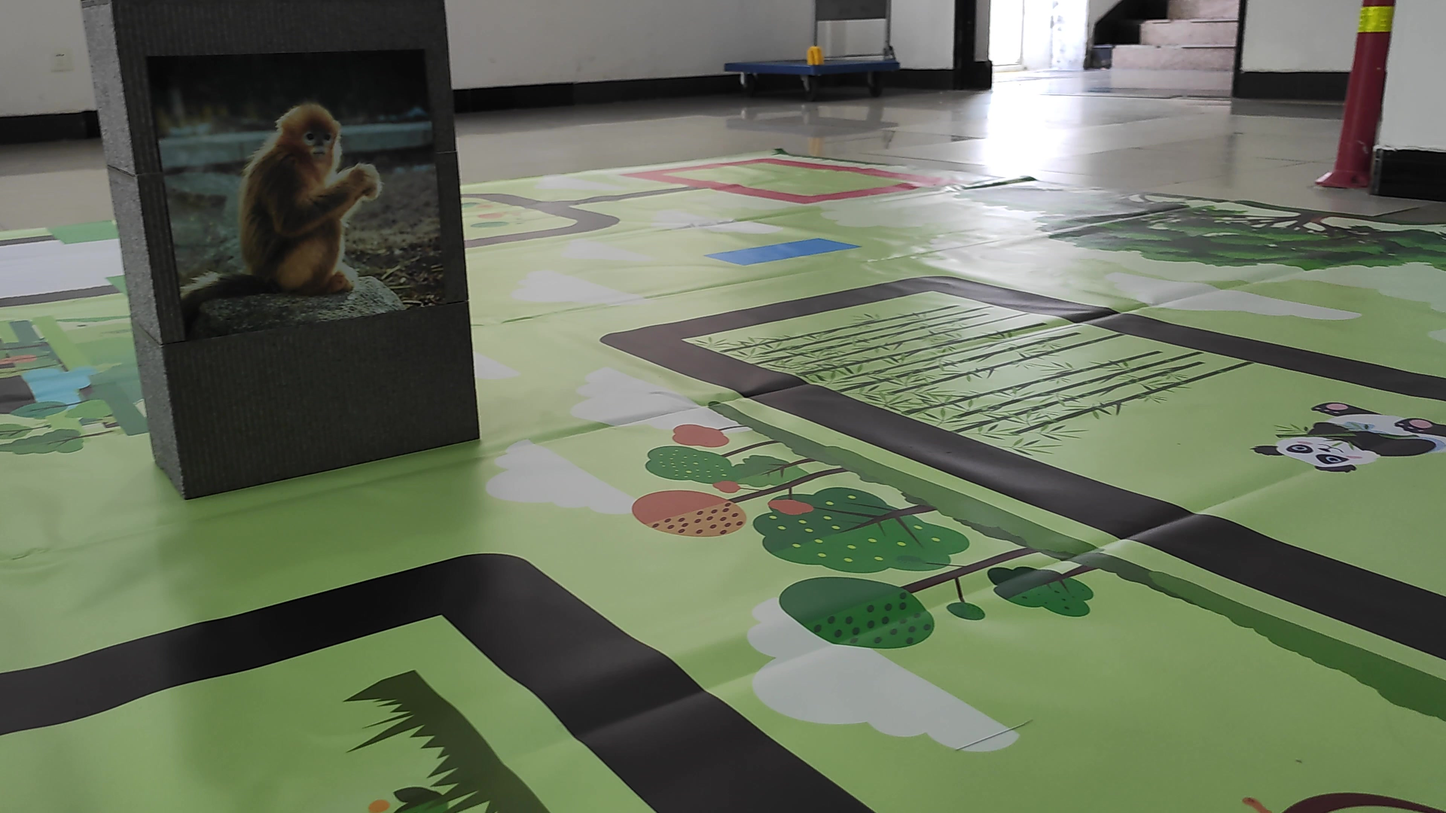monkey: (181, 88, 393, 324)
